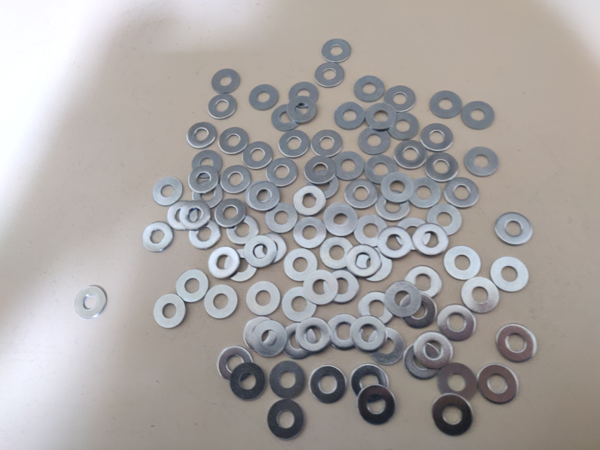circle: (434, 394, 473, 437), (496, 324, 537, 364), (478, 364, 518, 404), (358, 385, 397, 426), (438, 363, 477, 403), (350, 364, 389, 403), (414, 332, 454, 370), (437, 304, 477, 342), (268, 400, 305, 440), (490, 257, 531, 293), (461, 278, 500, 315), (403, 343, 442, 380), (310, 365, 346, 404), (270, 362, 306, 399), (252, 321, 288, 358), (400, 292, 437, 328), (351, 316, 388, 352), (369, 328, 405, 365), (385, 282, 423, 317), (218, 348, 254, 384), (326, 315, 362, 351), (231, 364, 266, 401), (444, 246, 481, 281), (358, 246, 393, 283), (282, 288, 318, 323), (495, 212, 533, 245), (405, 266, 443, 299), (246, 282, 281, 317), (296, 318, 331, 353), (378, 225, 413, 260), (204, 284, 238, 320), (413, 224, 449, 258), (283, 324, 317, 360), (304, 271, 338, 306), (359, 292, 394, 326), (324, 203, 358, 237), (354, 215, 389, 248), (427, 205, 462, 238), (323, 271, 359, 303), (243, 318, 279, 350), (154, 294, 186, 329), (176, 270, 209, 303), (284, 250, 317, 283), (320, 237, 353, 270), (245, 235, 277, 269), (225, 249, 257, 283), (376, 190, 410, 222), (464, 147, 500, 177), (75, 286, 107, 319), (293, 217, 326, 249), (381, 172, 414, 204), (445, 177, 479, 208), (208, 246, 240, 278), (294, 185, 326, 217), (254, 233, 287, 264), (227, 215, 259, 246), (359, 126, 392, 156), (462, 101, 495, 131), (345, 180, 378, 210), (143, 222, 174, 253), (395, 140, 427, 170), (266, 158, 298, 188), (153, 177, 184, 207), (180, 200, 211, 230), (215, 199, 246, 229), (167, 200, 198, 230), (266, 203, 297, 233), (190, 220, 220, 251), (409, 179, 441, 208), (421, 124, 454, 152), (426, 153, 459, 181), (220, 165, 251, 194), (188, 165, 219, 194), (305, 156, 336, 185), (308, 170, 339, 199), (388, 111, 419, 140), (311, 130, 343, 158), (366, 103, 398, 131), (431, 91, 463, 119), (365, 156, 397, 184), (192, 150, 222, 179), (243, 142, 274, 170), (192, 181, 223, 209), (289, 82, 320, 110), (279, 130, 310, 158), (250, 182, 279, 211), (246, 181, 275, 210), (336, 152, 365, 181), (335, 103, 365, 131), (287, 97, 318, 124), (384, 86, 416, 112), (249, 84, 279, 111), (271, 104, 301, 131), (355, 76, 385, 103), (187, 123, 218, 149), (208, 94, 238, 120), (315, 62, 344, 88), (219, 128, 248, 154), (212, 69, 240, 94), (322, 39, 352, 62)
